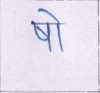e_matra: (38, 8, 61, 22)
